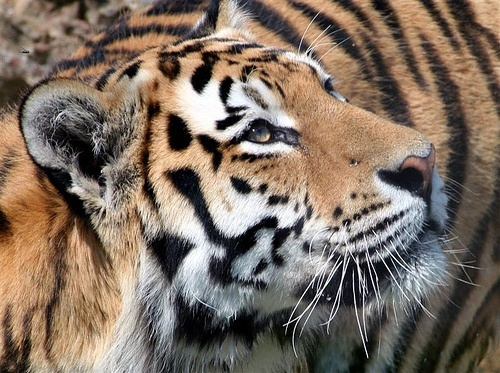tigre: (5, 1, 458, 369)
